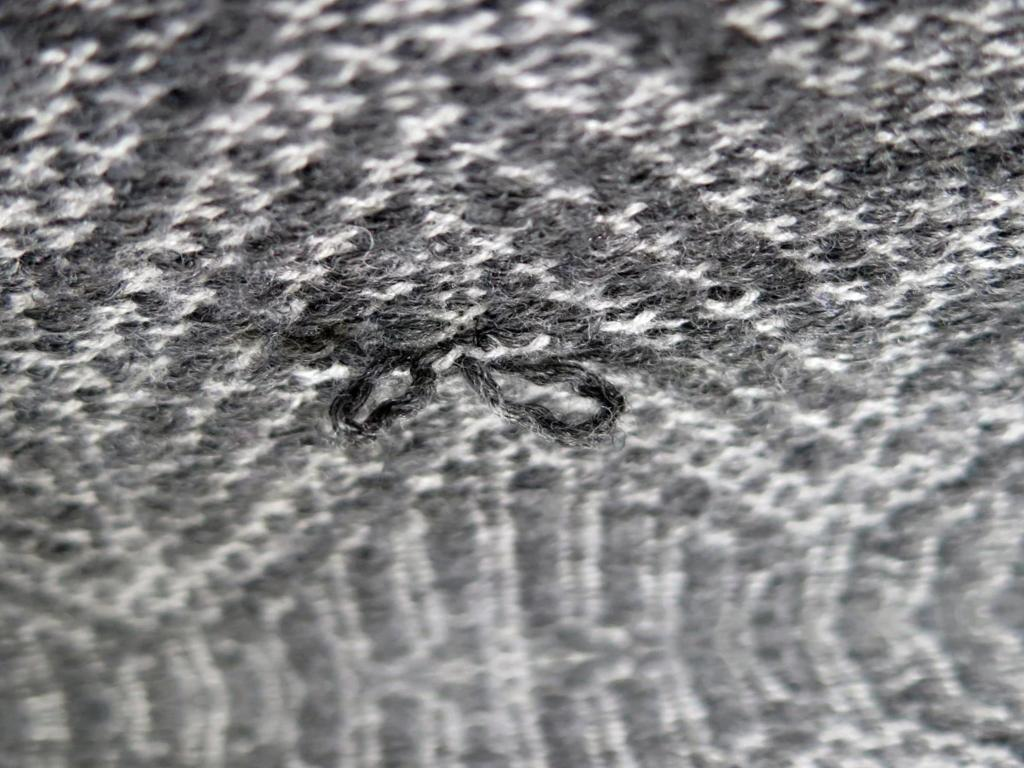snag: (455, 339, 648, 453), (304, 336, 437, 459)
